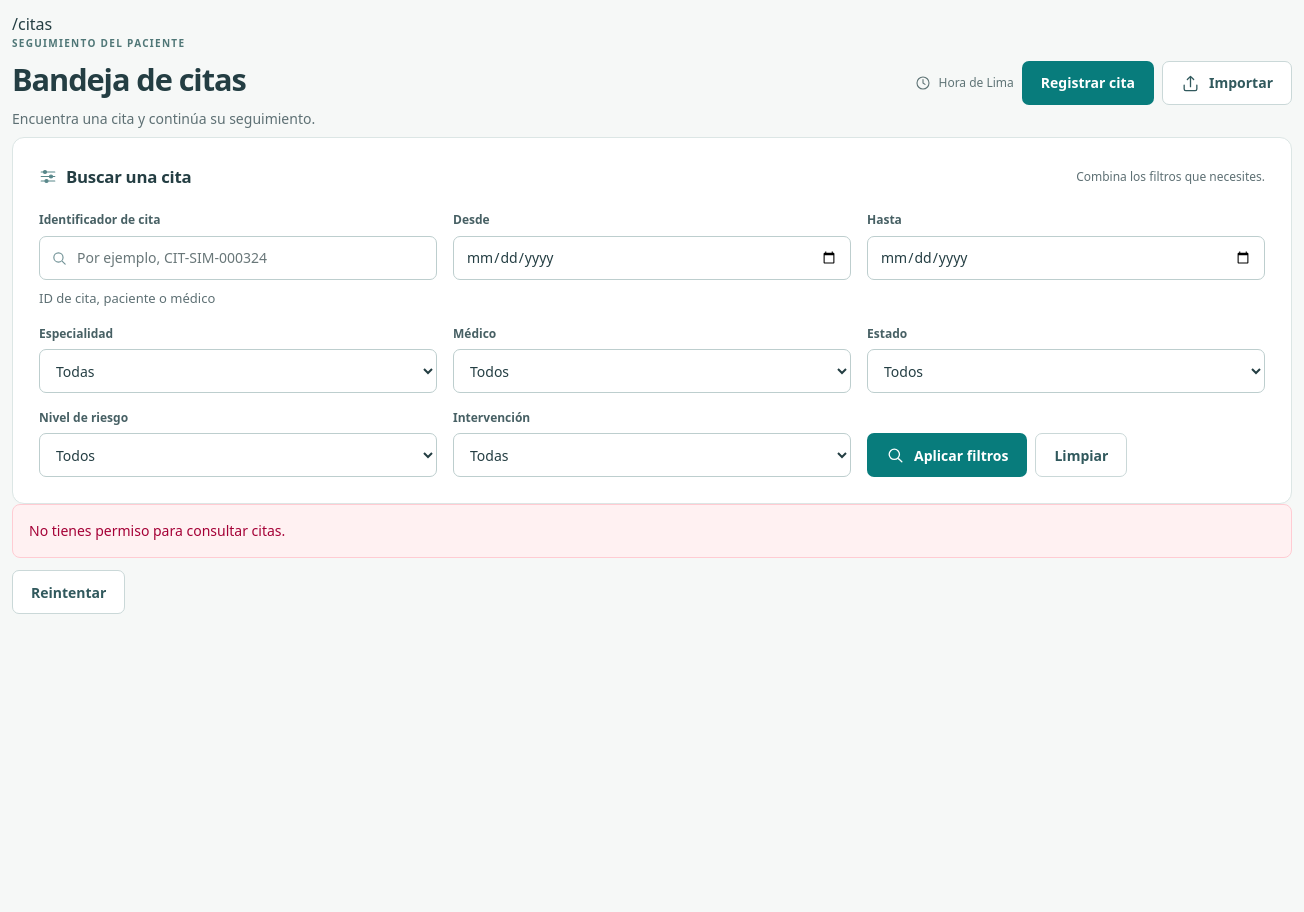
Test: Bandeja completa M02-V01 (RF-015, RF-016, RF-017, RF-084) › muestra el error 403 SIN_PERMISO del contrato y permite recuperar la consulta
Check: the message reads "No tienes permiso para consultar citas.", box [29,521,285,540]
Click the button "Reintentar". click: point(69, 592)
box: [12,570,125,614]
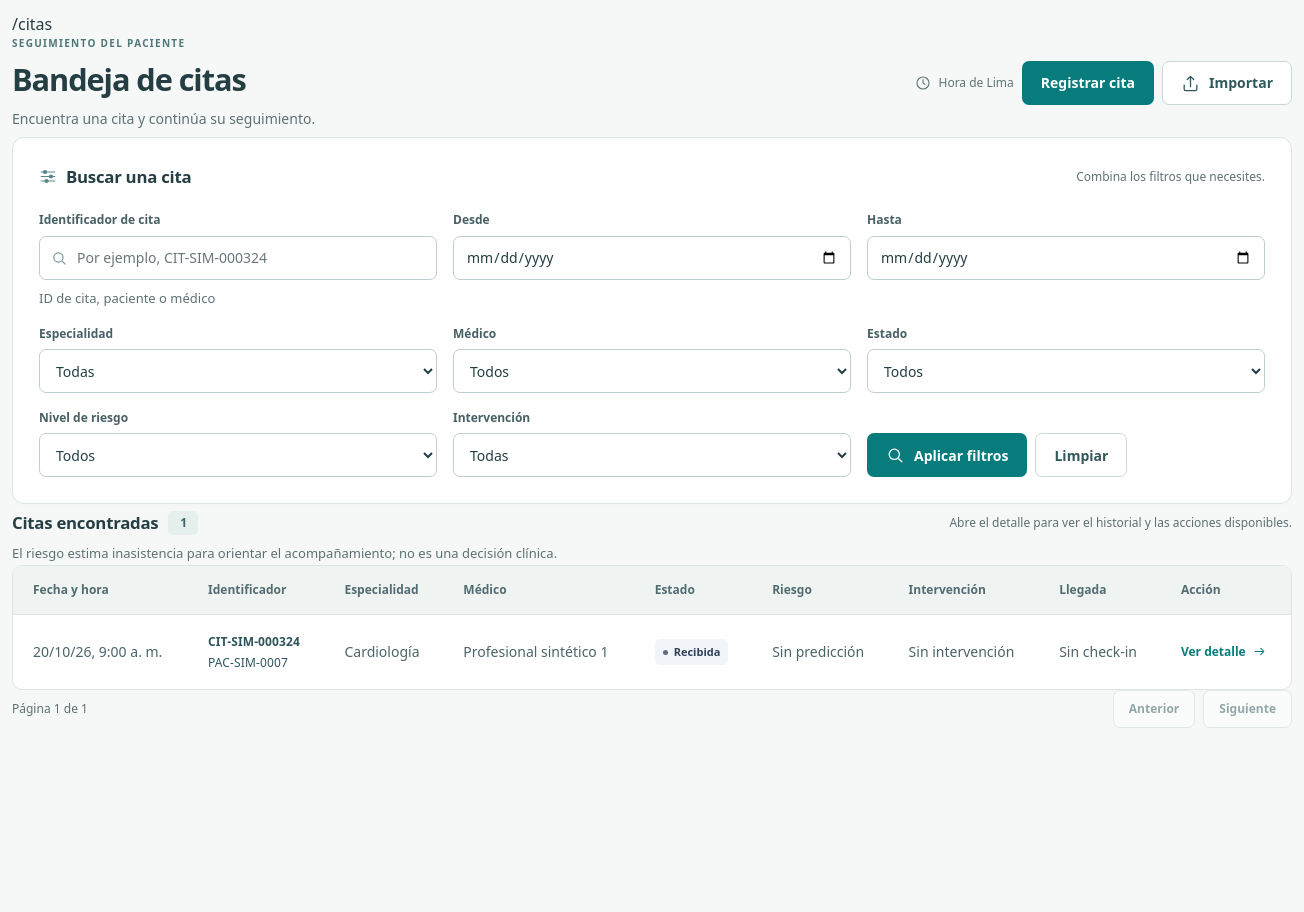
Check: the text "CIT-SIM-000324" is shown, box [208,633,300,650]
